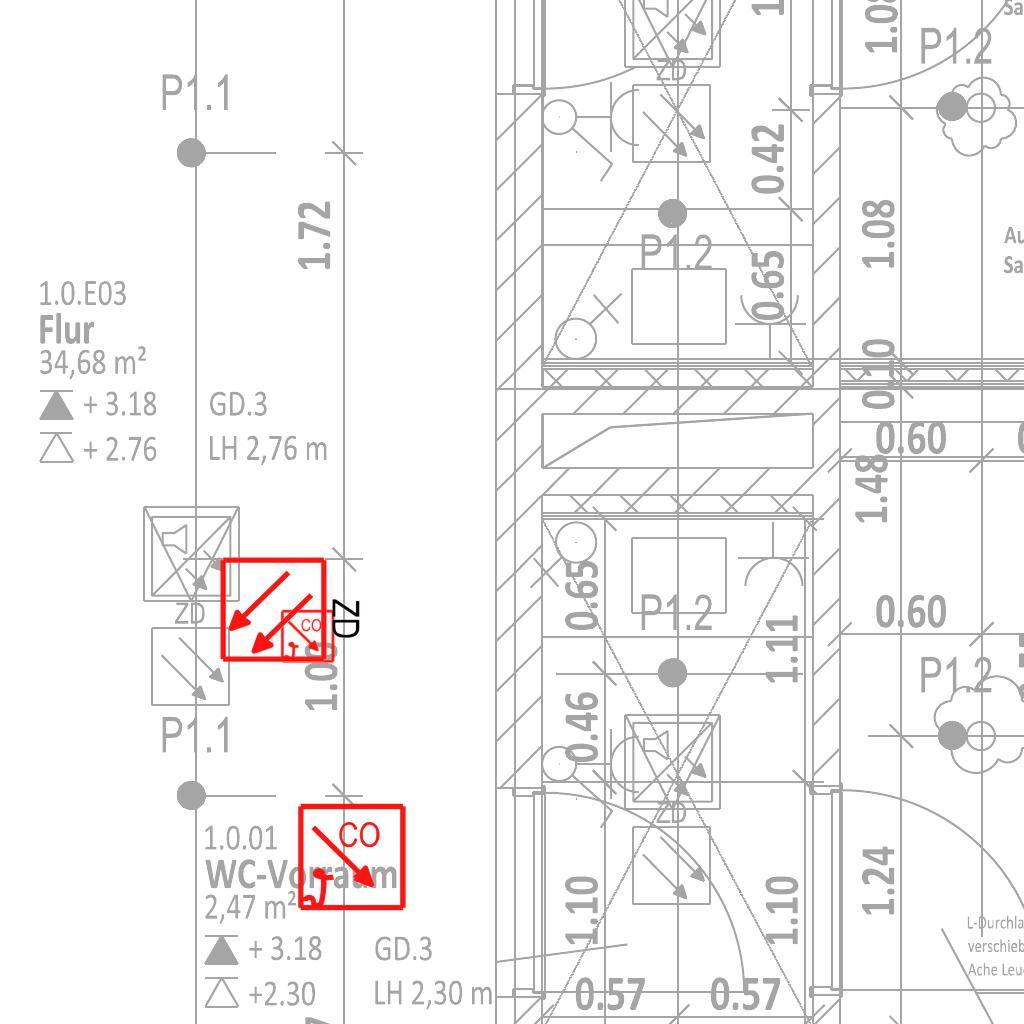ROA_Rauchmelder_optisch_mit_Signalgeber_(Sockelsirene): (296, 802, 409, 915), (280, 609, 336, 665)
ZD_Melder_in_Zwischendecke_mit_Revisionsoeffnung_mind_40_x_40_cm: (218, 551, 367, 665)
